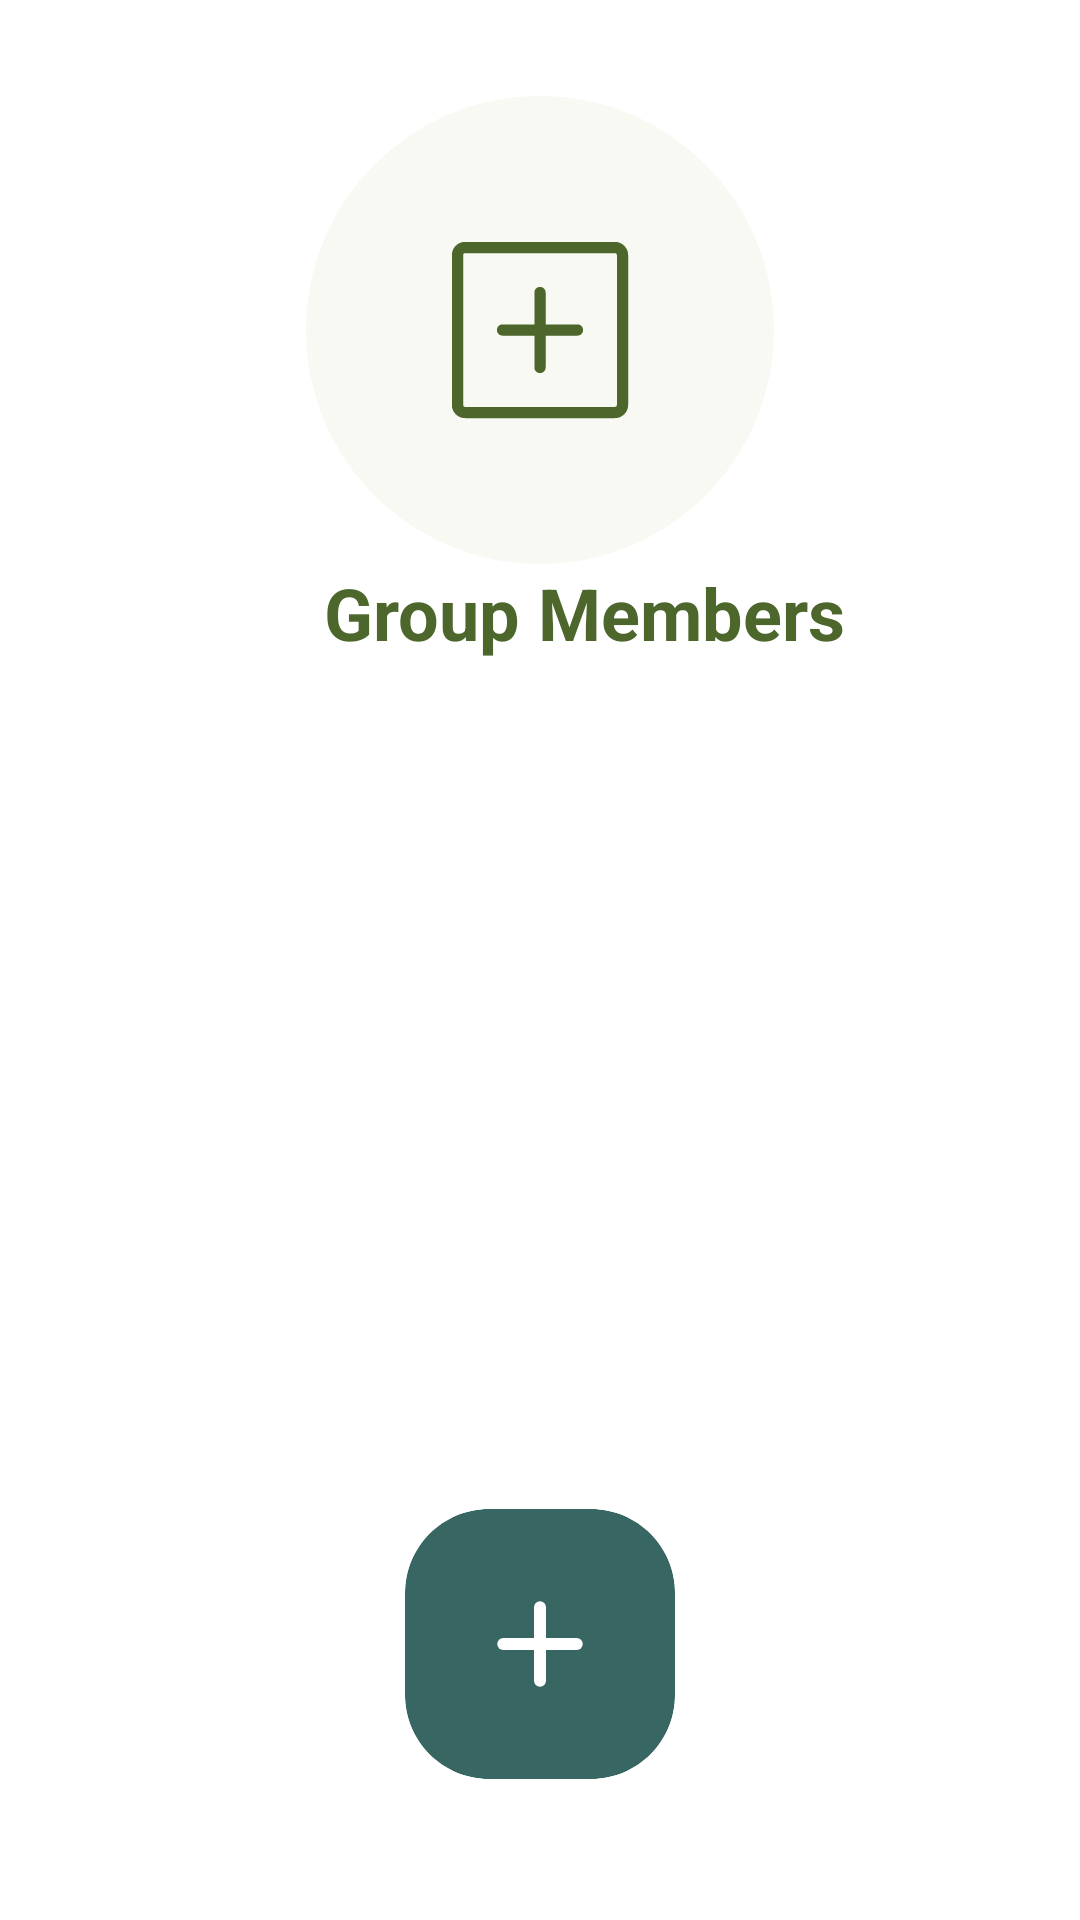

Icons on this 1080w x 1920h Android screen, each with the point to tap as point (x, y):
Add: point (540, 1644)
